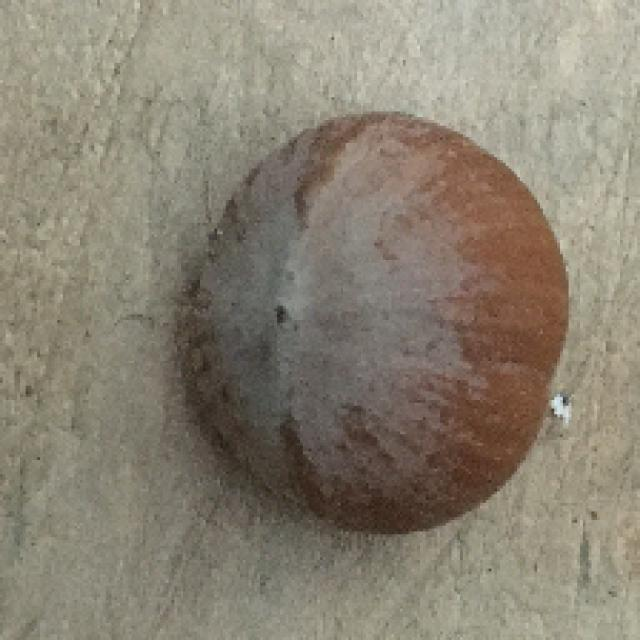QualityHazelnut: (185, 112, 577, 538)
